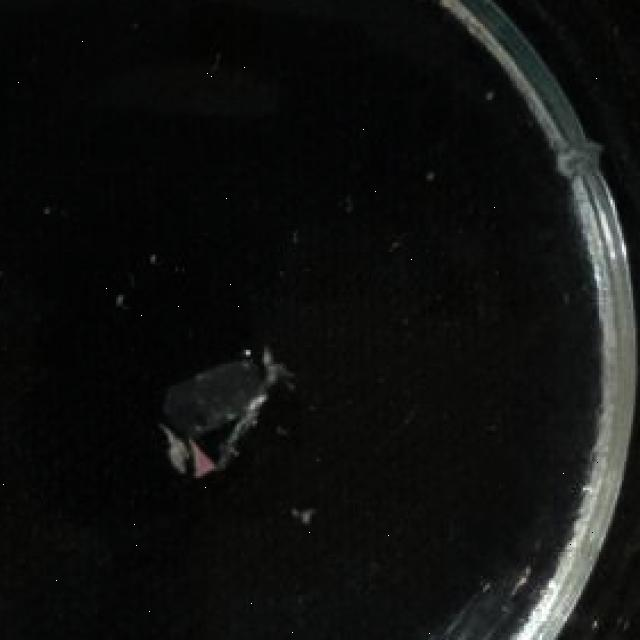Microplastic: (146, 321, 312, 507)
